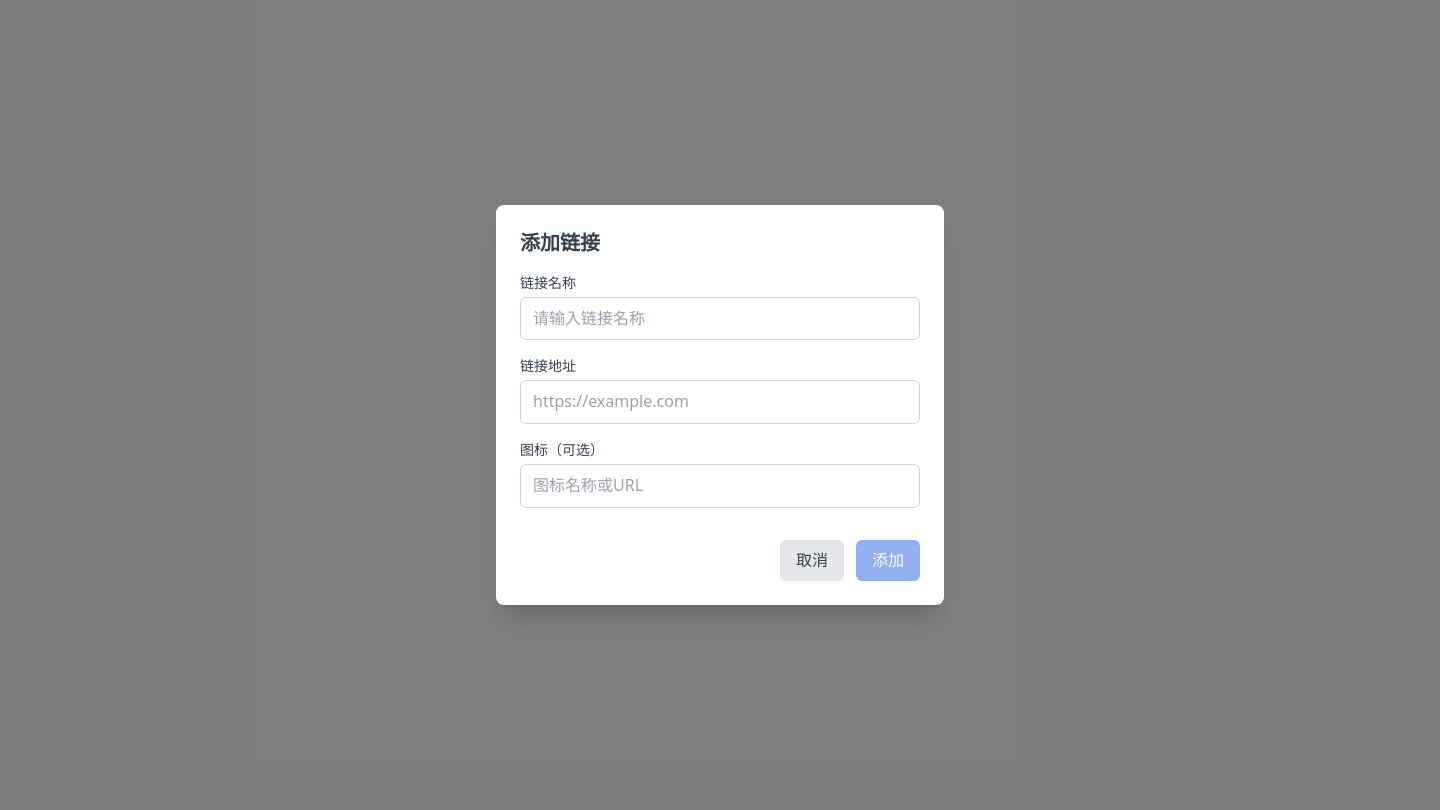
Test case: LinkForm › 表单验证 › 应该验证URL格式
The width and height of the screenshot is (1440, 810).
In the field with test id "url-input": (720, 402) [520,380,920,424], type "invalid-url"
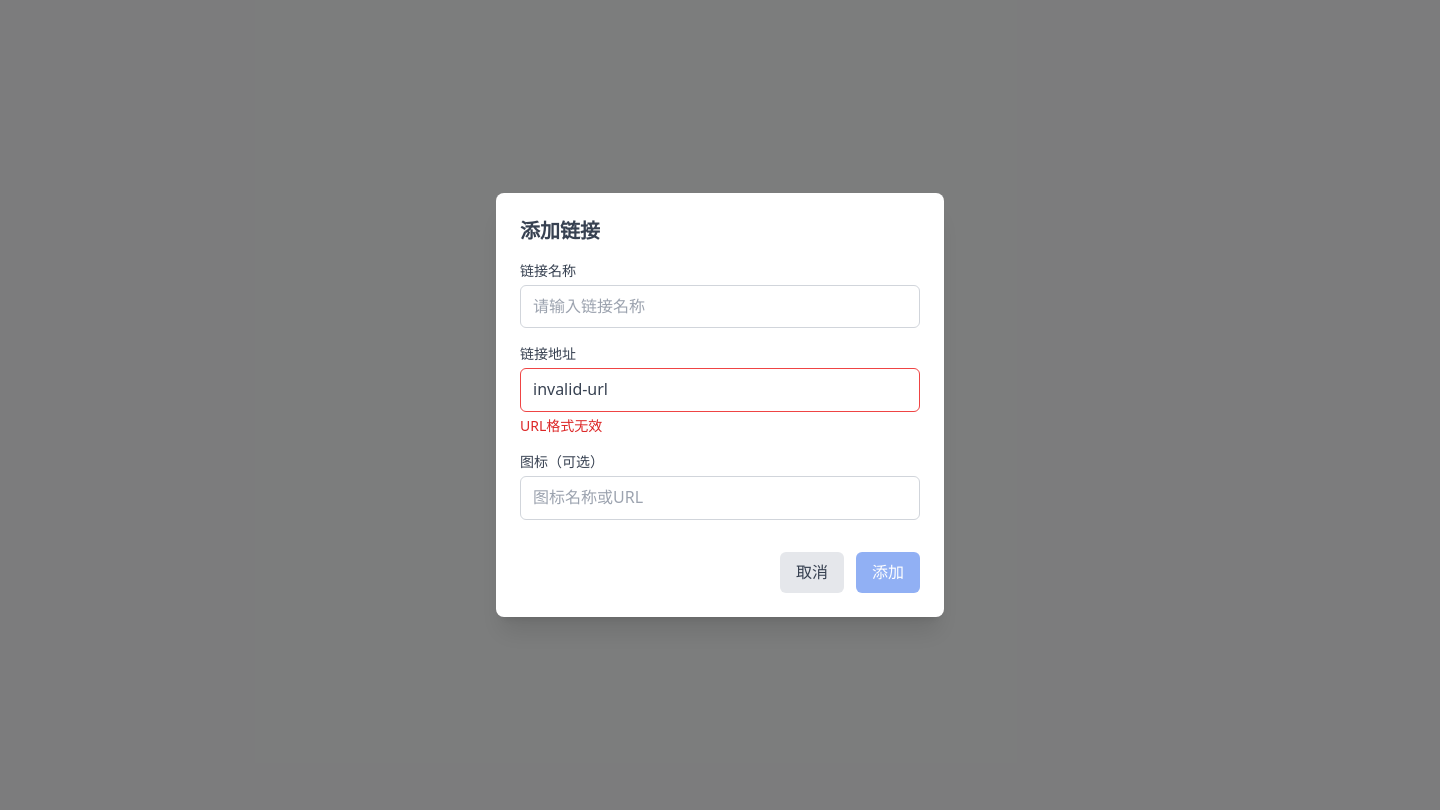
Expected: the text with test id "url-error" reads "URL格式无效", [520,416,602,435]
